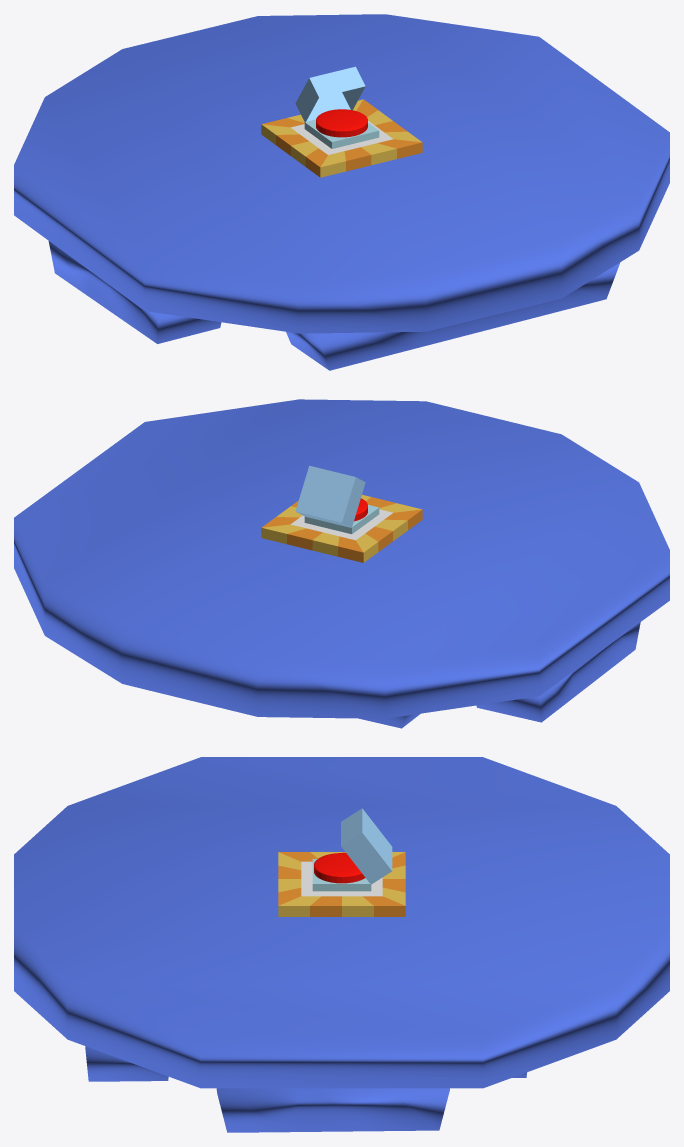
The model's file is button.fbx.
3 renders of one model, top to bottom at view 1: azimuth 30°, elevation 25°; view 2: azimuth 150°, elevation 25°; view 3: azimuth 270°, elevation 25°, orthographic. The views are drawn at different scales.
Visible parts, largest first — view 1: Cube, Cube.002; view 2: Cube, Cube.002; view 3: Cube, Cube.002.
Part boxes in pixels (x1=…): Cube: x1=14, y1=14, x2=669, y2=370; Cube.002: x1=261, y1=66, x2=422, y2=177; Cube: x1=14, y1=399, x2=669, y2=728; Cube.002: x1=261, y1=465, x2=422, y2=562; Cube: x1=14, y1=757, x2=669, y2=1132; Cube.002: x1=278, y1=808, x2=405, y2=916.
Size of the model in its own units: 464 by 144 by 465.
